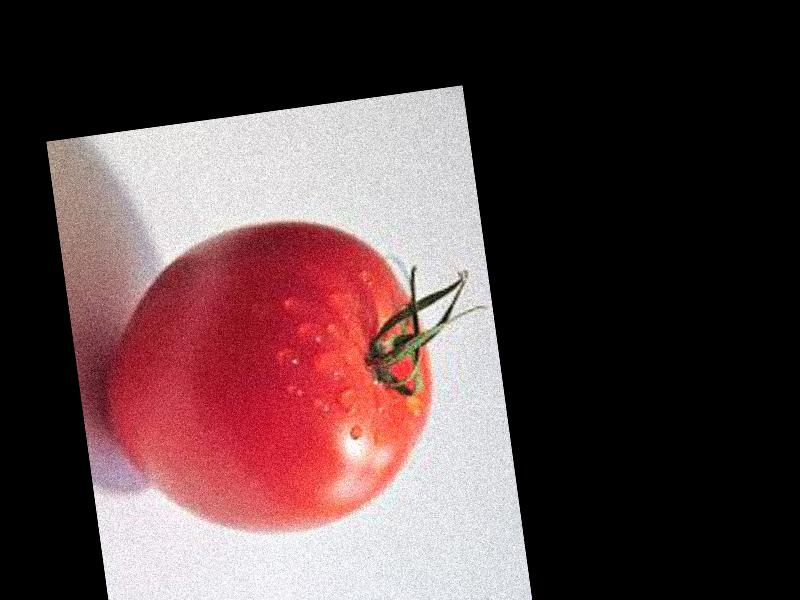Tomato: (86, 206, 445, 554)
